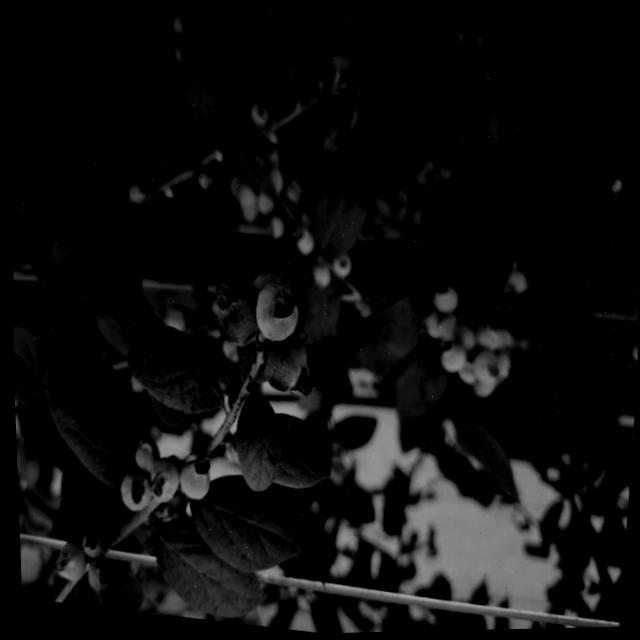RipeBlueBerry: (252, 323, 319, 401), (204, 273, 265, 350)
Semi-RipeBlueBerry: (246, 270, 307, 347)
